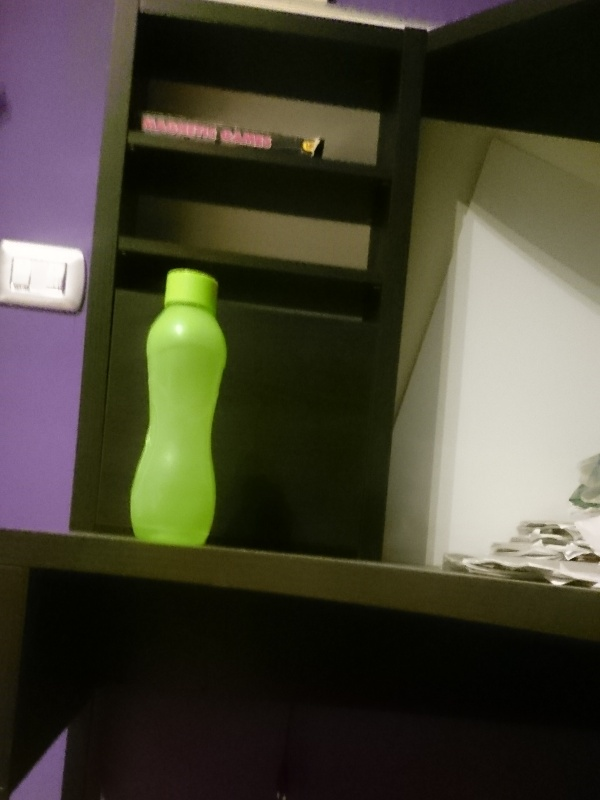my bottle: (128, 267, 226, 545)
